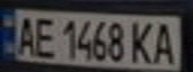1: (57, 16, 78, 60)
4: (75, 17, 93, 61)
6: (90, 17, 109, 61)
8: (106, 18, 130, 63)
A: (148, 18, 181, 65), (12, 12, 39, 57)
E: (30, 13, 57, 60)
K: (127, 18, 157, 65)
